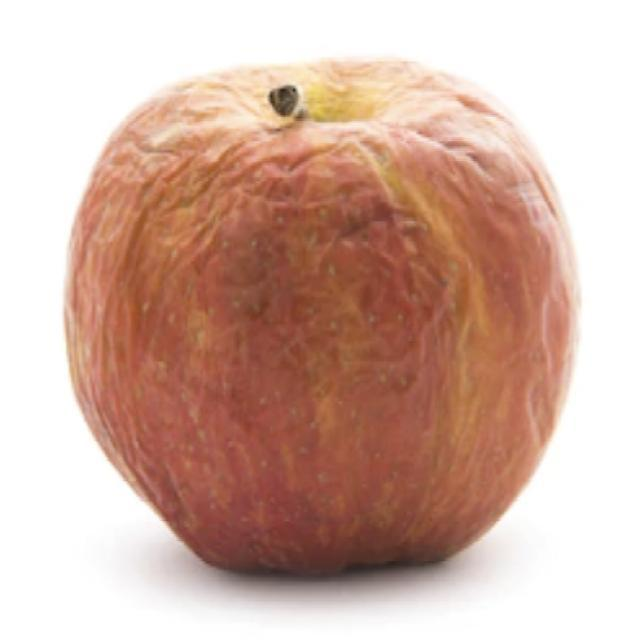Rotten: (85, 65, 562, 583)
